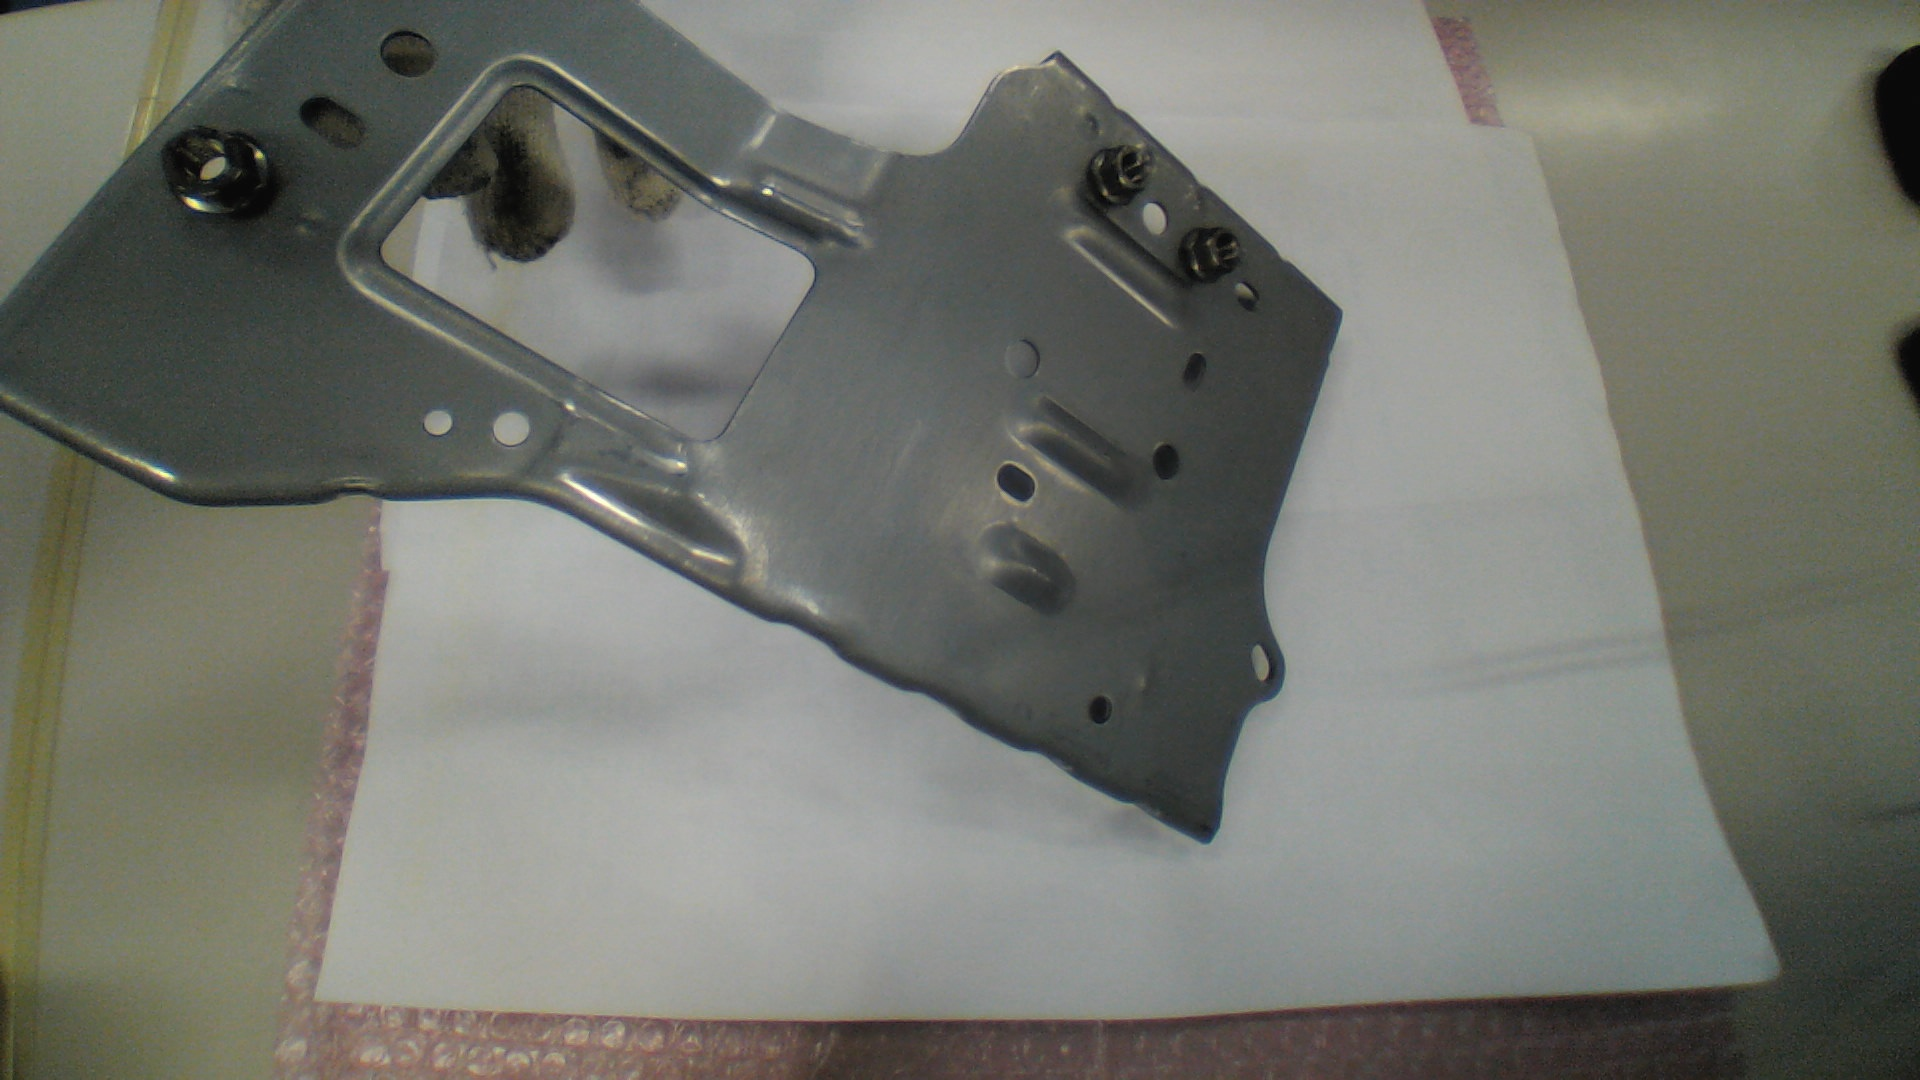dog: (161, 127, 276, 220), (1087, 142, 1151, 208), (1182, 225, 1244, 281)
